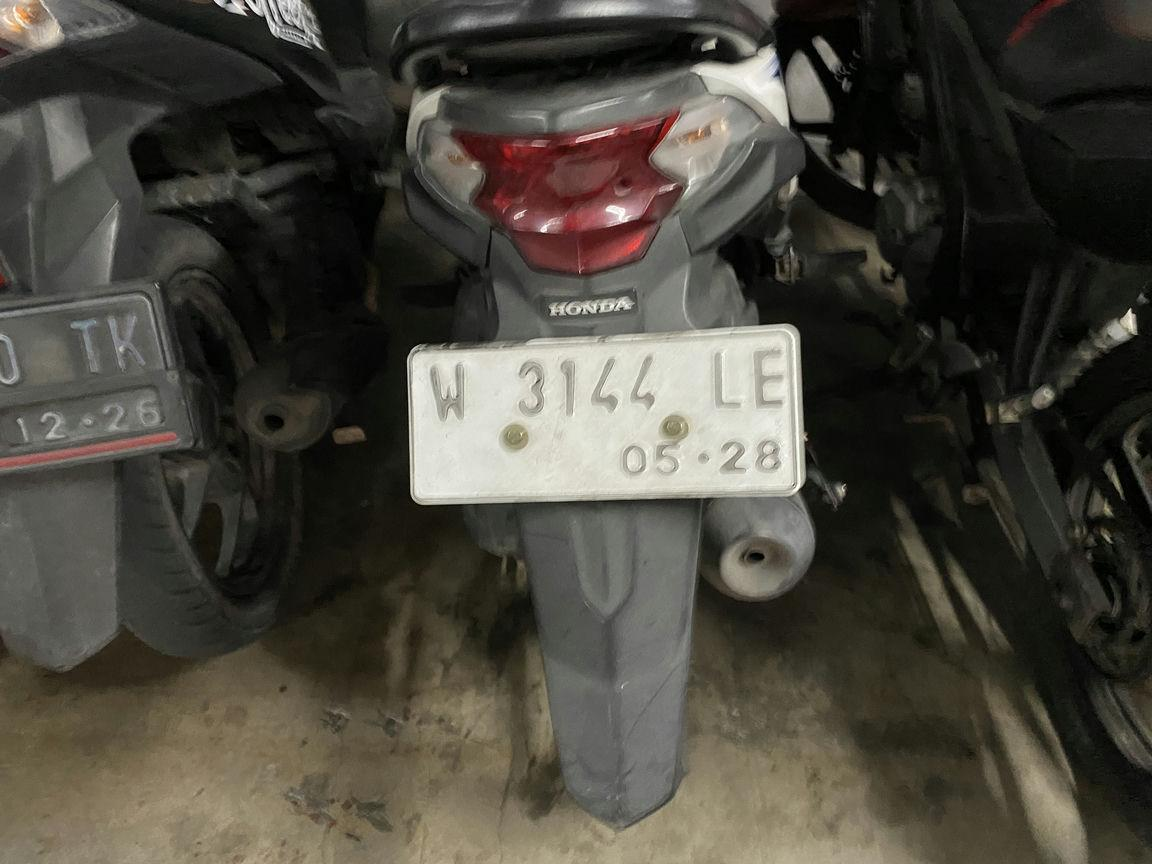plat: (410, 324, 806, 504)
